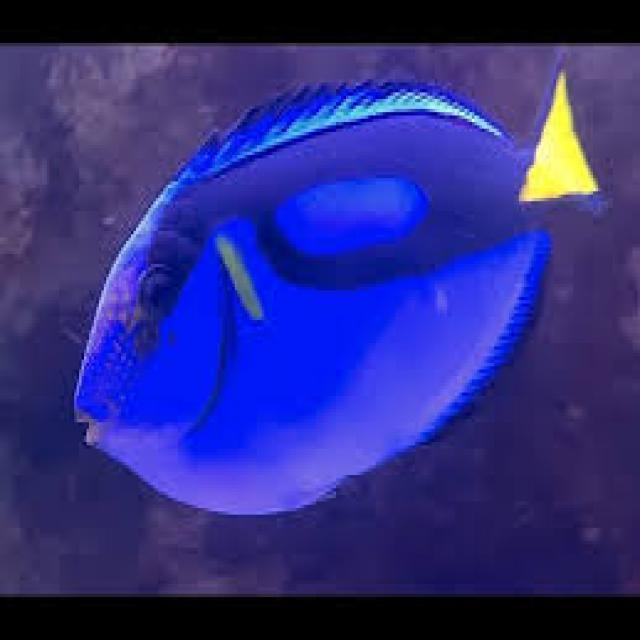TangFish: (72, 61, 605, 522)
